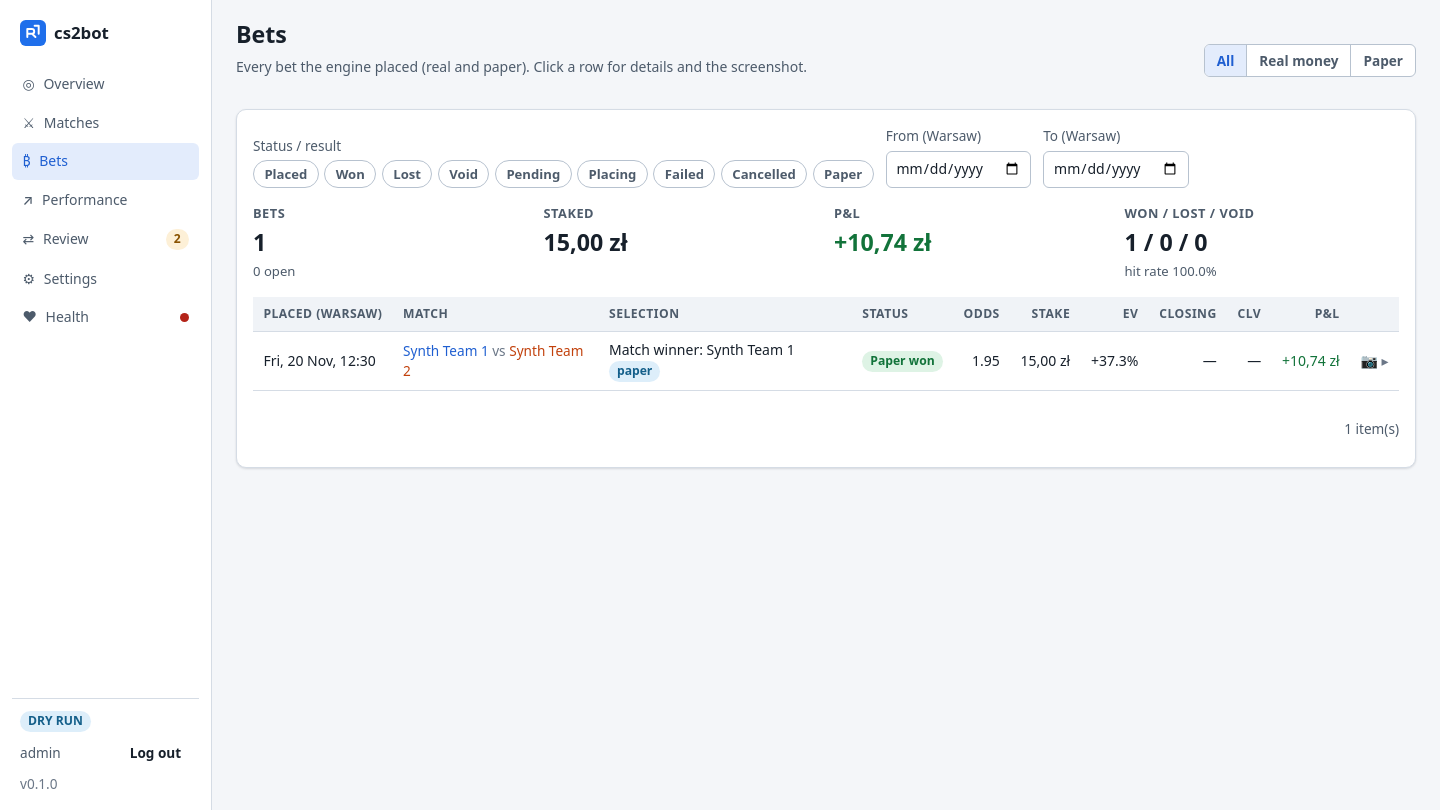
Test: auth flow › shows the login page right after logging out
Click the button "Log out" at (155, 753), box [120,740,191,766]
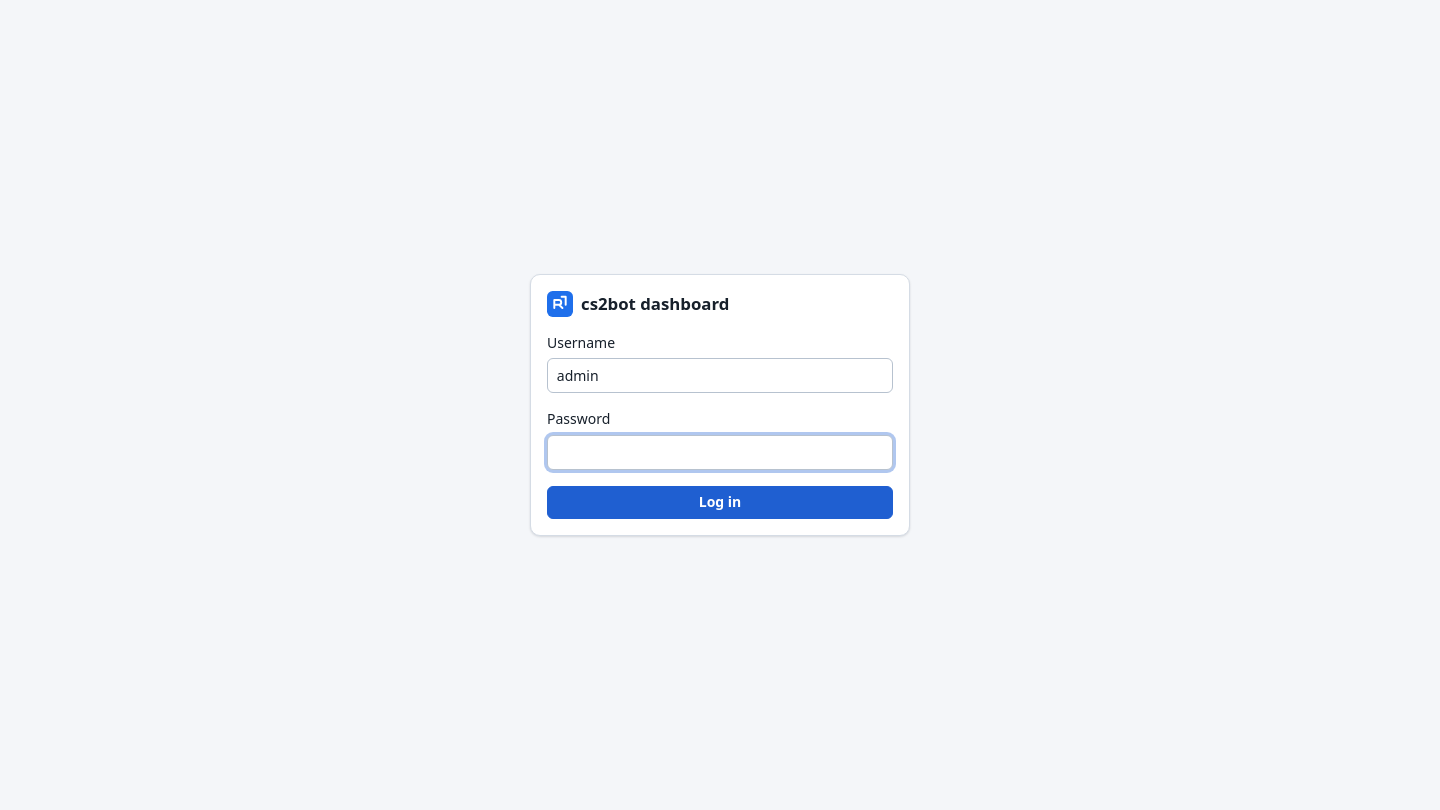
Expected: the password field labelled "Password" is shown, [547,434,893,470]
